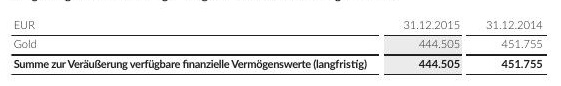table: (0, 0, 561, 86)
